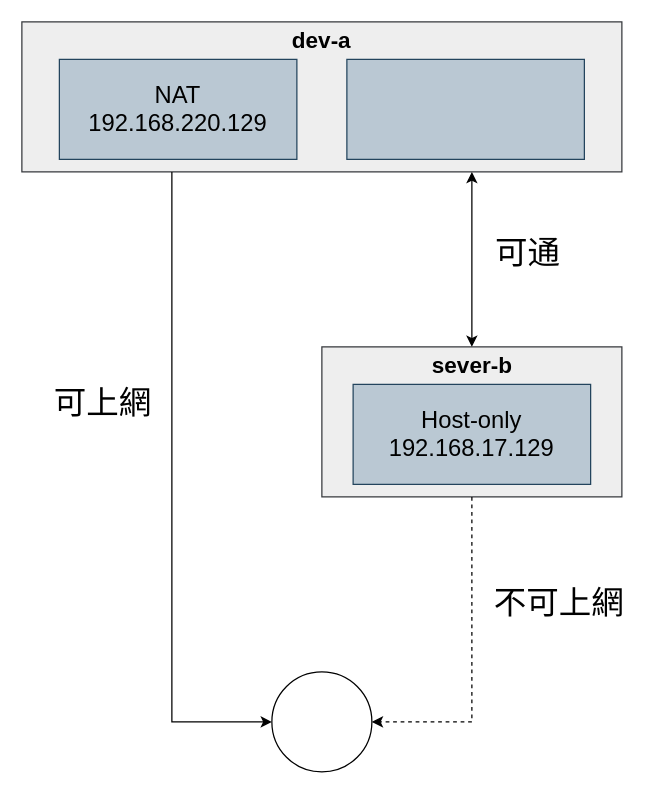
The diagram is 656 pixels wide and 794 high, and some of its shapes have lost their labels. Here are the shapes that lost their labels. From the top down, the centre of each, then its label:
At [465,108]: "Host-only 192.168.17.128".
At [321,721]: "Internet".
